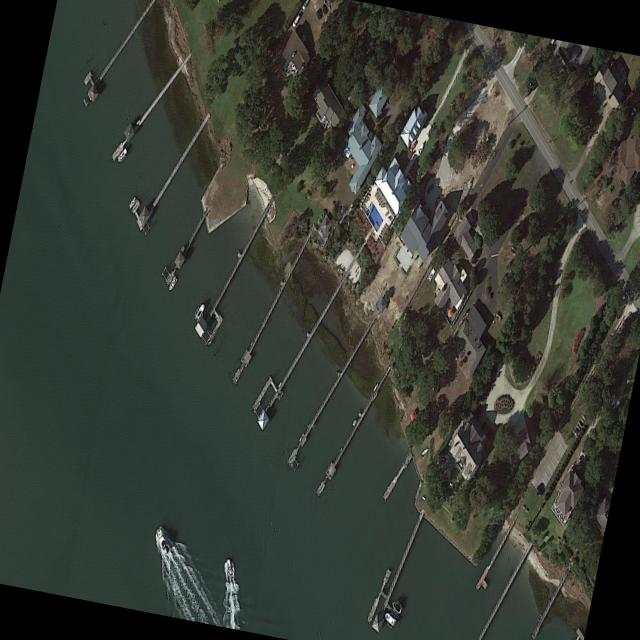ship: (153, 526, 171, 556), (193, 301, 204, 323), (382, 611, 396, 627), (224, 557, 232, 583), (167, 276, 177, 292), (116, 147, 126, 163), (425, 268, 435, 284), (390, 599, 401, 613), (415, 142, 423, 157), (127, 196, 135, 210), (492, 312, 500, 322), (352, 419, 356, 427)
small-vehicle: (627, 105, 636, 120), (291, 14, 299, 28), (425, 183, 433, 195), (536, 484, 542, 497), (301, 0, 308, 11), (409, 142, 415, 152), (315, 10, 320, 21), (321, 4, 326, 15)
